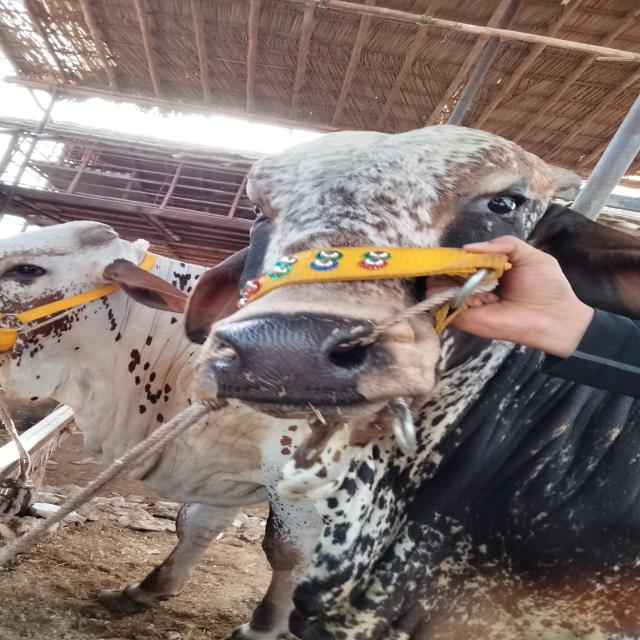muzzles: (198, 309, 404, 411)
